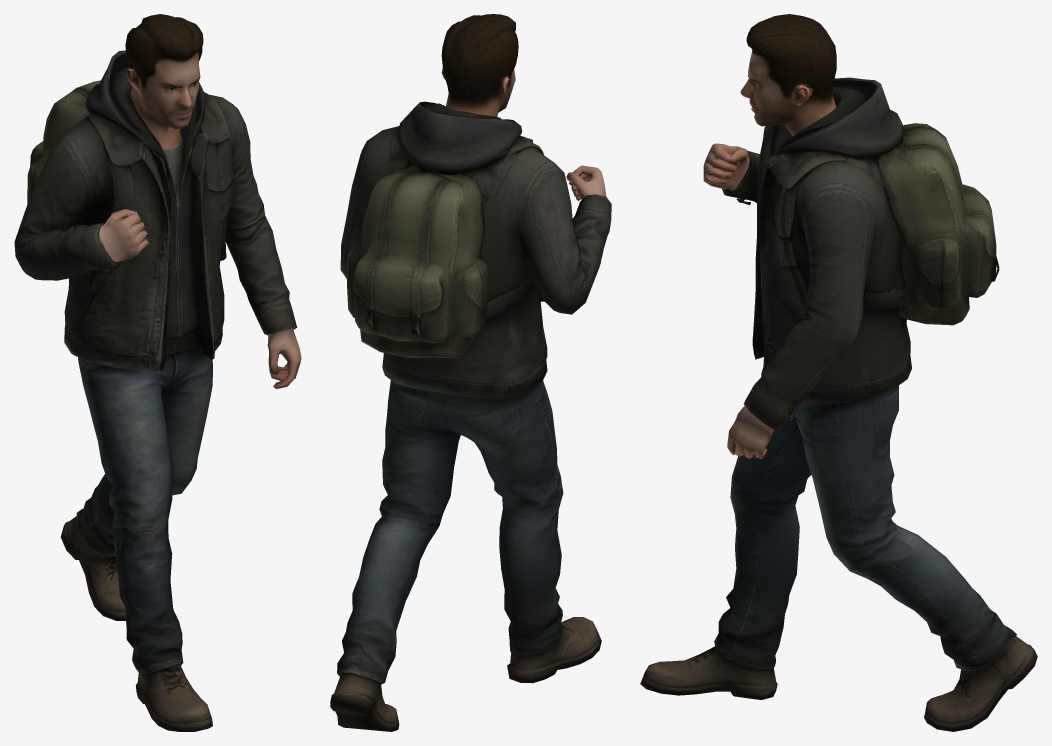
Rendered from selected.glb.
3 renders of one model, left to right at view 1: azimuth 30°, elevation 25°; view 2: azimuth 150°, elevation 25°; view 3: azimuth 270°, elevation 25°, orthographic. The views are drawn at different scales.
Visible parts, largest first — view 1: tripo_node_3a02d6d5-f698-49de-92f8-9fb87aa43f03; view 2: tripo_node_3a02d6d5-f698-49de-92f8-9fb87aa43f03; view 3: tripo_node_3a02d6d5-f698-49de-92f8-9fb87aa43f03.
Boxes of the visible parts, x1,y1,x2,y2 form: tripo_node_3a02d6d5-f698-49de-92f8-9fb87aa43f03: (14, 14, 301, 731); tripo_node_3a02d6d5-f698-49de-92f8-9fb87aa43f03: (330, 14, 611, 731); tripo_node_3a02d6d5-f698-49de-92f8-9fb87aa43f03: (640, 14, 1037, 731).
Size of the model in its own units: 0.3887 by 0.998 by 0.5254.
1 material, 1 textured.
